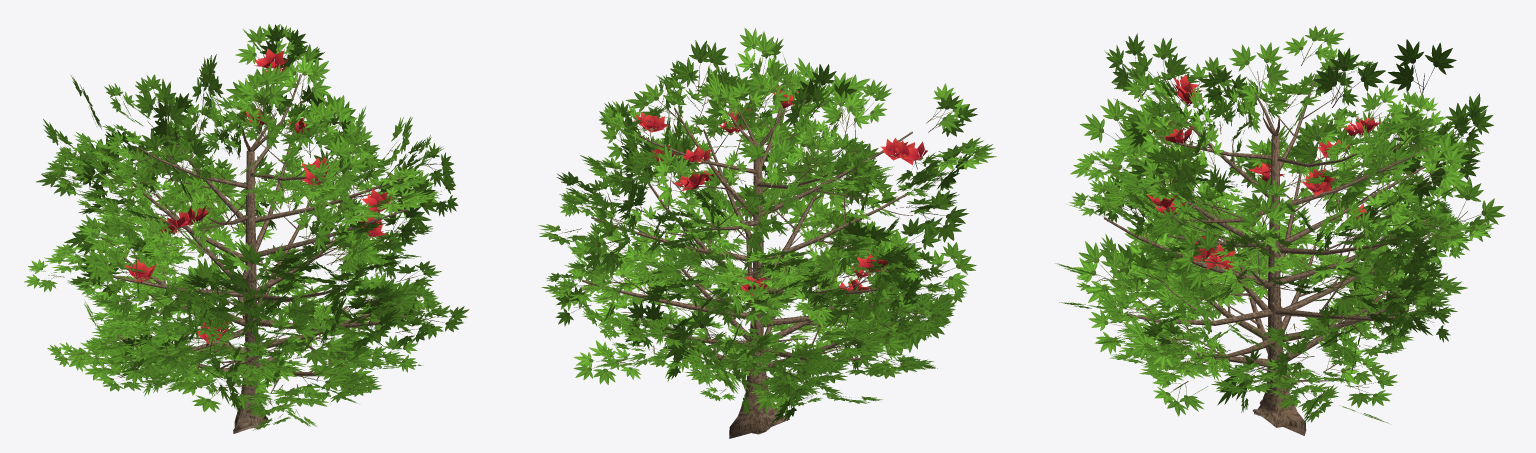
Rendered from simul_lod1.glb.
The picture shows the model from 3 angles, left to right: view 1: azimuth 30°, elevation 25°; view 2: azimuth 150°, elevation 25°; view 3: azimuth 270°, elevation 25°; orthographic projection. The views are drawn at different scales.
Parts seen in each view (by area): view 1: Simul_Foliage_LOD1_Leaves, Simul_Flowering_LOD1_Branches, Simul_Flowering_LOD1_Flowers, Simul_Flowering_LOD1_Trunk; view 2: Simul_Foliage_LOD1_Leaves, Simul_Flowering_LOD1_Branches, Simul_Flowering_LOD1_Flowers, Simul_Flowering_LOD1_Trunk; view 3: Simul_Foliage_LOD1_Leaves, Simul_Flowering_LOD1_Branches, Simul_Flowering_LOD1_Trunk, Simul_Flowering_LOD1_Flowers.
Part boxes in pixels (left/top/right/bottom): Simul_Foliage_LOD1_Leaves: left=24, top=24, right=469, bottom=430; Simul_Flowering_LOD1_Branches: left=100, top=67, right=407, bottom=393; Simul_Flowering_LOD1_Flowers: left=125, top=48, right=391, bottom=343; Simul_Flowering_LOD1_Trunk: left=233, top=150, right=267, bottom=433; Simul_Foliage_LOD1_Leaves: left=538, top=28, right=996, bottom=423; Simul_Flowering_LOD1_Branches: left=582, top=86, right=912, bottom=377; Simul_Flowering_LOD1_Flowers: left=634, top=86, right=927, bottom=295; Simul_Flowering_LOD1_Trunk: left=729, top=156, right=789, bottom=438; Simul_Foliage_LOD1_Leaves: left=1055, top=26, right=1505, bottom=426; Simul_Flowering_LOD1_Branches: left=1104, top=75, right=1433, bottom=384; Simul_Flowering_LOD1_Trunk: left=1252, top=134, right=1306, bottom=435; Simul_Flowering_LOD1_Flowers: left=1147, top=74, right=1381, bottom=270.
Size of the model in its own units: 33.19 by 31.02 by 35.76.
Materials: 4 (2 with a texture image).
